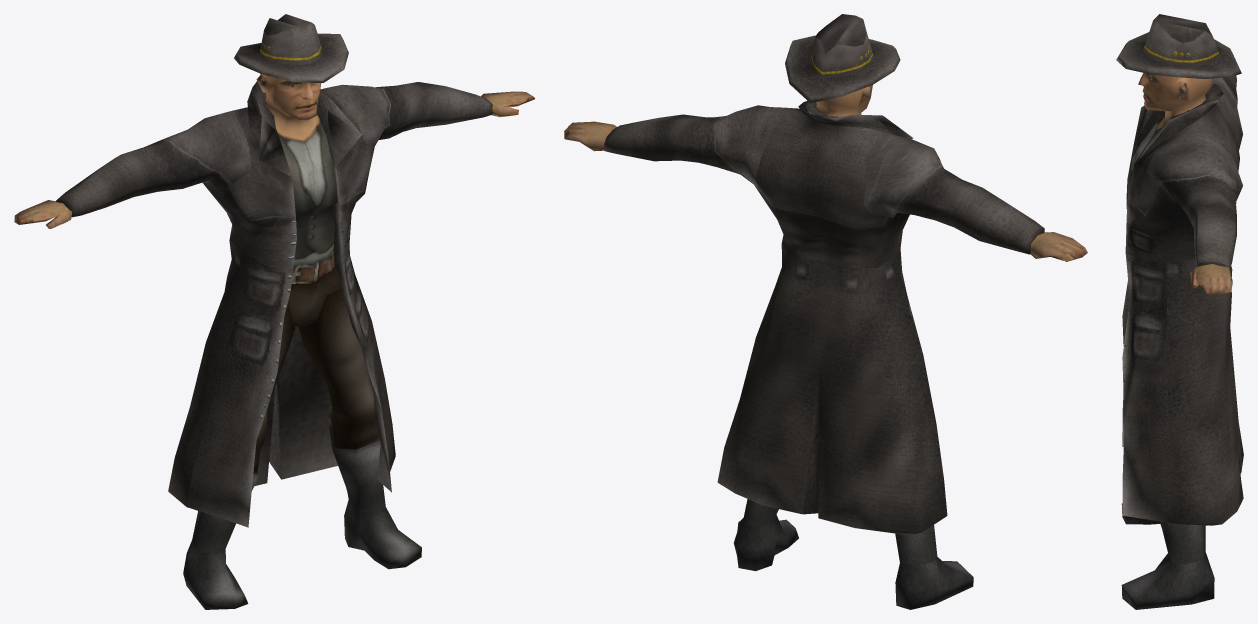
Rendered from duster_7_all.obj.
3 renders of one model, left to right at view 1: azimuth 30°, elevation 25°; view 2: azimuth 150°, elevation 25°; view 3: azimuth 270°, elevation 25°, orthographic. The views are drawn at different scales.
Parts seen in each view (by area): view 1: duster7_coat, duster7_manbody, duster7_rboot, duster7_hat; view 2: duster7_coat, duster7_rboot, duster7_hat, duster7_manbody; view 3: duster7_coat, duster7_hat, duster7_rboot, duster7_manbody.
Part boxes in pixels (x1,y1,x2,y2): duster7_coat: (56, 81, 492, 527); duster7_manbody: (14, 73, 534, 474); duster7_rboot: (183, 415, 421, 609); duster7_hat: (234, 14, 348, 82); duster7_coat: (604, 100, 1044, 535); duster7_rboot: (734, 499, 973, 609); duster7_hat: (785, 14, 900, 103); duster7_manbody: (564, 85, 1087, 261); duster7_coat: (1122, 75, 1243, 525); duster7_hat: (1116, 14, 1241, 78); duster7_rboot: (1121, 503, 1214, 609); duster7_manbody: (1127, 73, 1232, 294).
Size of the model in its own units: 100 by 102 by 21.92.
2 materials, 2 textured.
